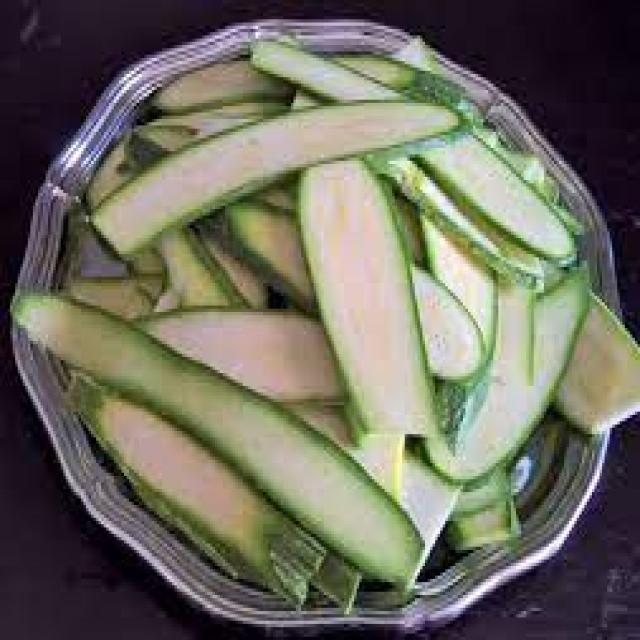Zucchini: (298, 158, 422, 437)
